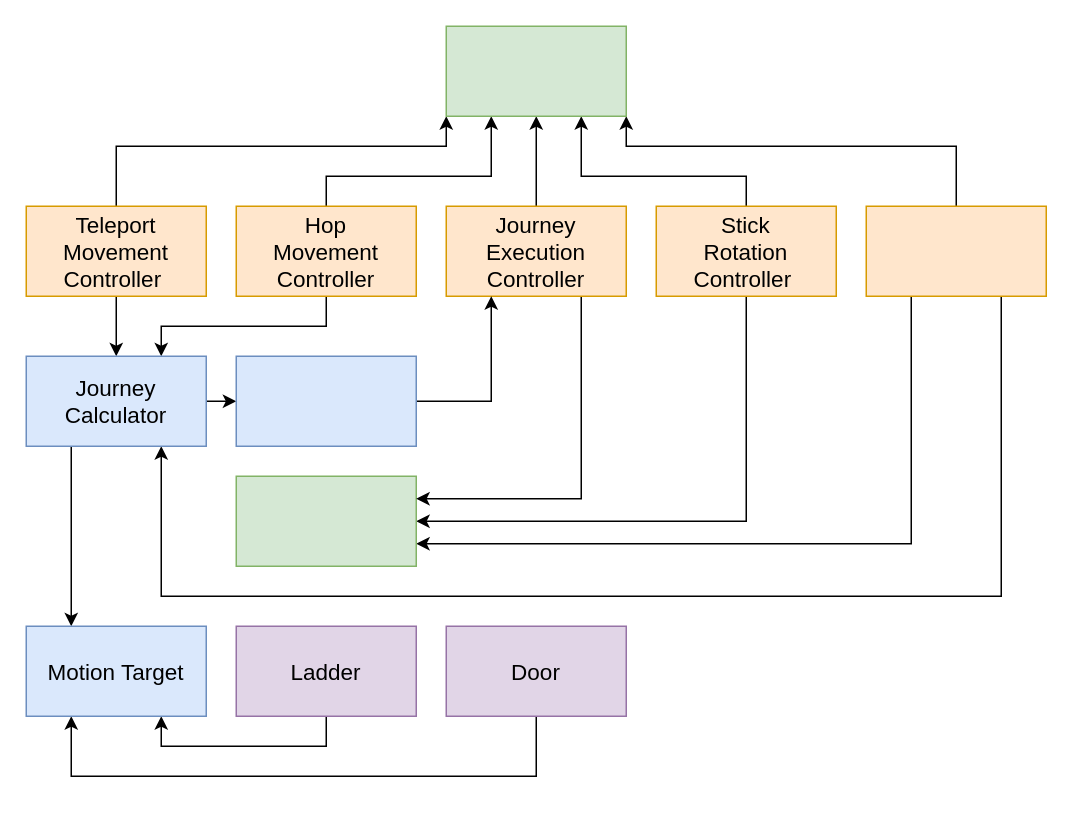
The diagram is 1073 pixels wide and 815 high, and some of its shapes have lost their labels. The box of each missing label's shape, as (x1, y1, x2, y2) in pixels:
Journey: (235, 355, 416, 446)
Locomotion Movement Component: (235, 475, 416, 566)
Locomotion Supervisor: (445, 25, 626, 116)
Stick Movement Controller: (865, 205, 1046, 296)
